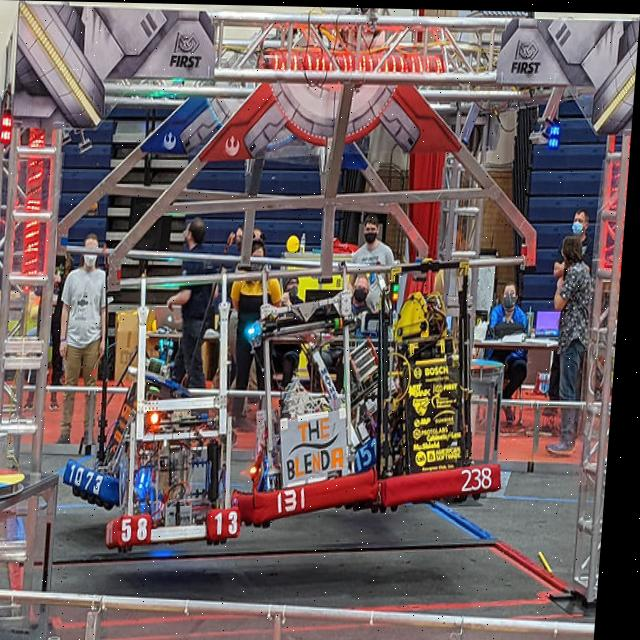robot: (110, 269, 264, 555), (238, 263, 398, 535), (362, 252, 521, 509), (64, 346, 205, 512)
